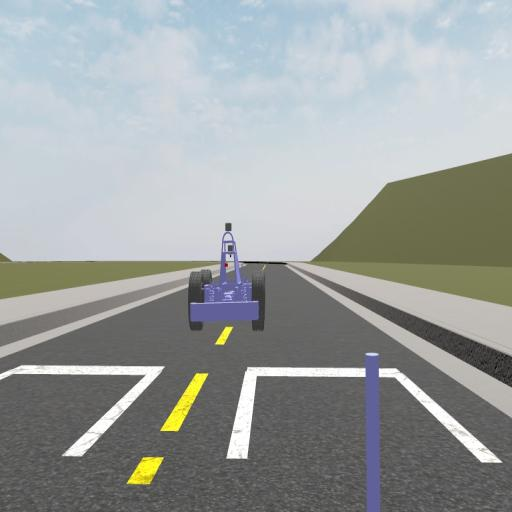ERP-42: (189, 221, 266, 330)
